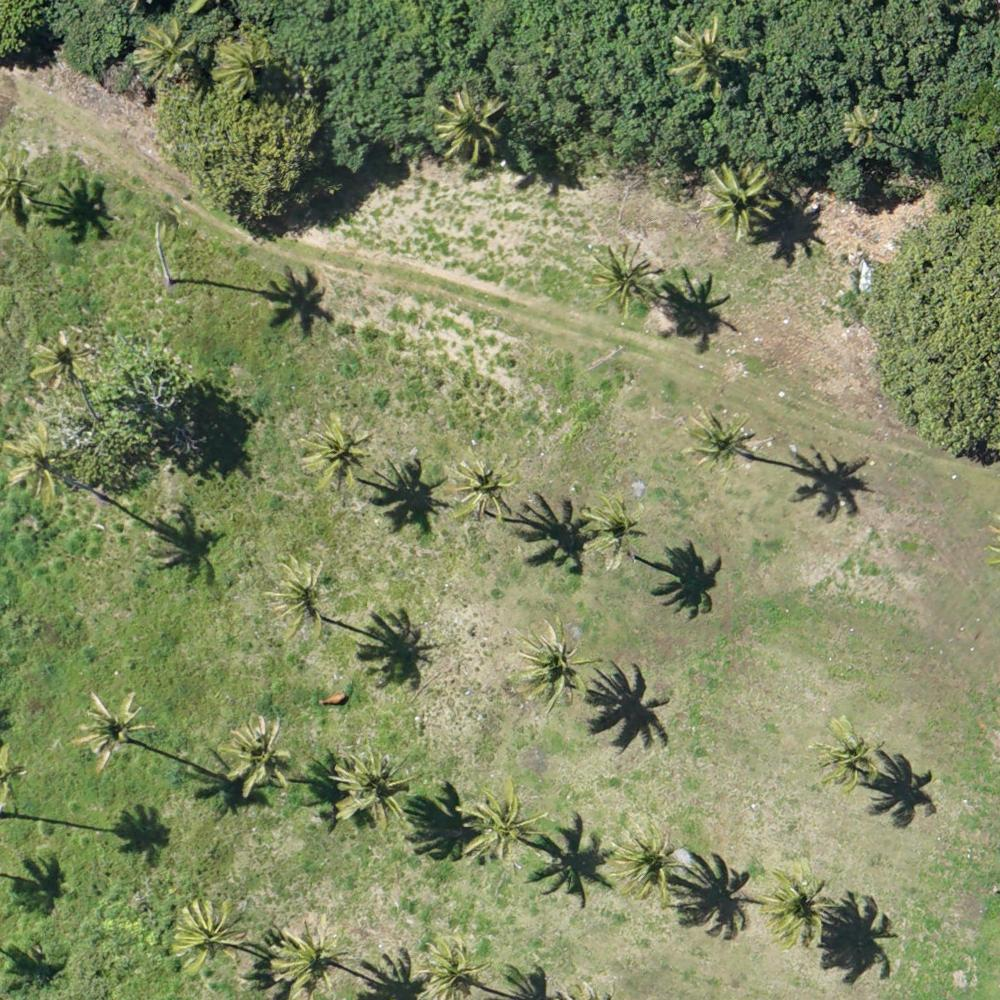Palm: (513, 623, 599, 711), (329, 746, 415, 833), (461, 784, 545, 867), (758, 869, 841, 945), (71, 693, 148, 773), (297, 409, 373, 490), (219, 719, 291, 801), (263, 558, 339, 634), (437, 91, 515, 165), (607, 829, 683, 904), (269, 923, 349, 994), (6, 427, 78, 504), (172, 897, 248, 968), (679, 406, 756, 475), (705, 164, 773, 242), (671, 17, 746, 85), (591, 245, 662, 315), (580, 492, 647, 565), (128, 16, 198, 80), (418, 940, 492, 1000), (444, 455, 512, 520), (31, 324, 100, 388), (206, 34, 273, 97), (842, 101, 880, 149)
